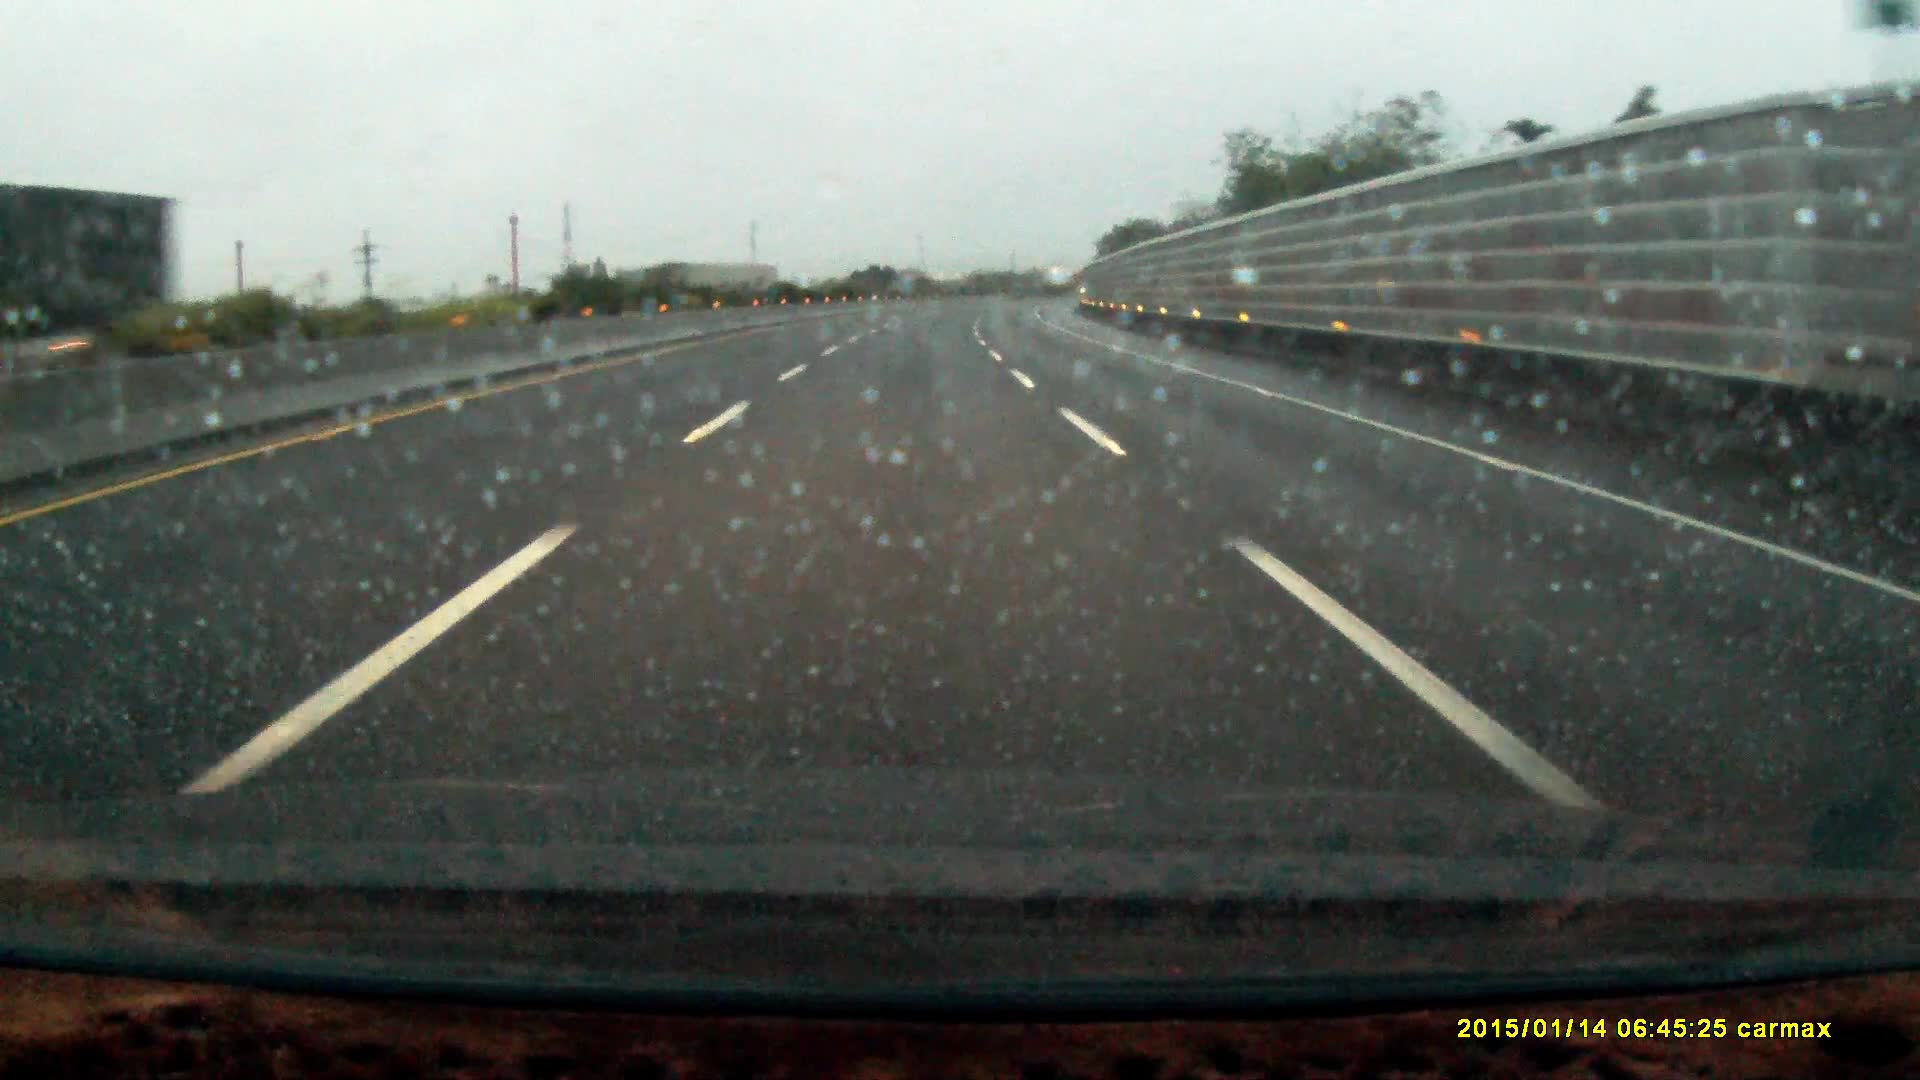vehicle: (1, 190, 200, 373)
